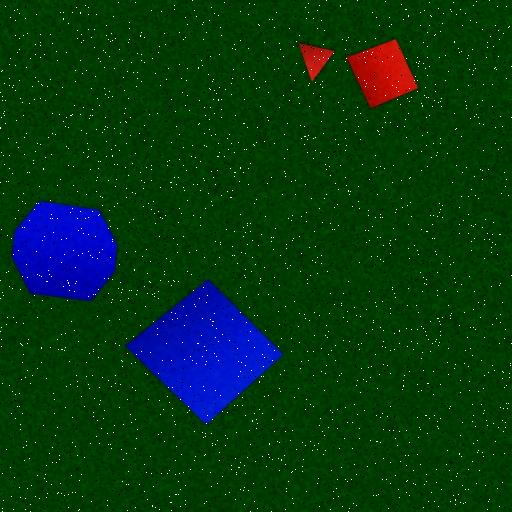BLUE_SQUARE: (124, 278, 284, 426)
RED_SQUARE: (346, 38, 419, 110)
